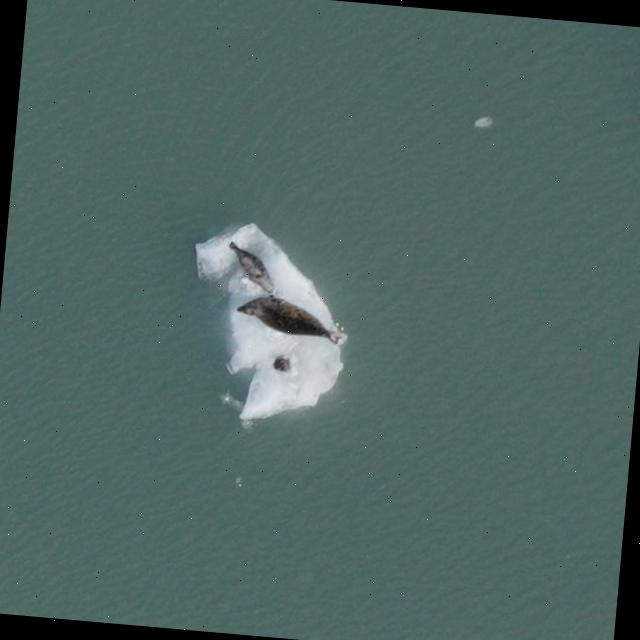seal: (235, 291, 353, 349), (229, 233, 277, 298)
